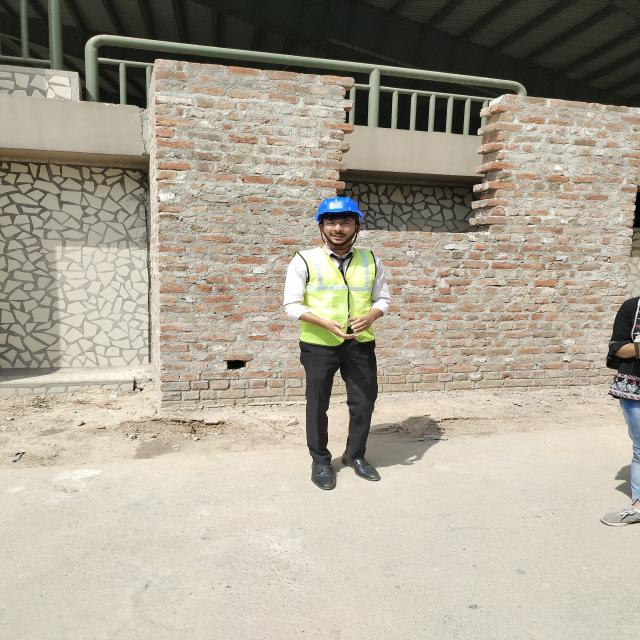safe: (284, 196, 392, 489)
